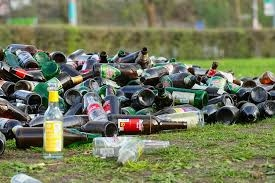glass: (107, 112, 192, 135), (39, 88, 66, 155), (90, 135, 175, 155), (14, 125, 91, 147), (90, 60, 146, 81), (163, 85, 211, 107), (116, 132, 145, 168), (79, 94, 109, 126), (160, 70, 203, 86), (82, 119, 119, 136), (59, 70, 96, 87), (1, 97, 27, 121), (8, 65, 46, 81), (131, 84, 155, 108), (218, 104, 241, 128), (103, 94, 123, 121), (239, 101, 262, 124), (202, 58, 221, 85), (13, 89, 40, 106), (15, 48, 39, 67), (135, 46, 149, 75), (201, 101, 219, 121), (110, 47, 128, 67), (254, 69, 275, 86), (11, 172, 42, 183), (248, 86, 268, 102), (97, 49, 114, 67), (261, 99, 275, 117)
